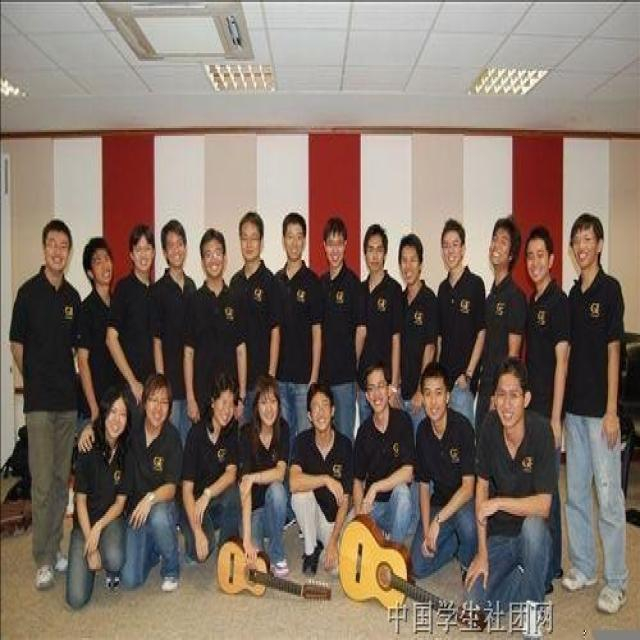guitar: (338, 511, 489, 639)
